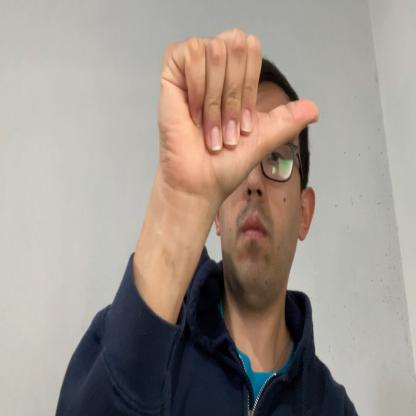A: (158, 27, 318, 199)
